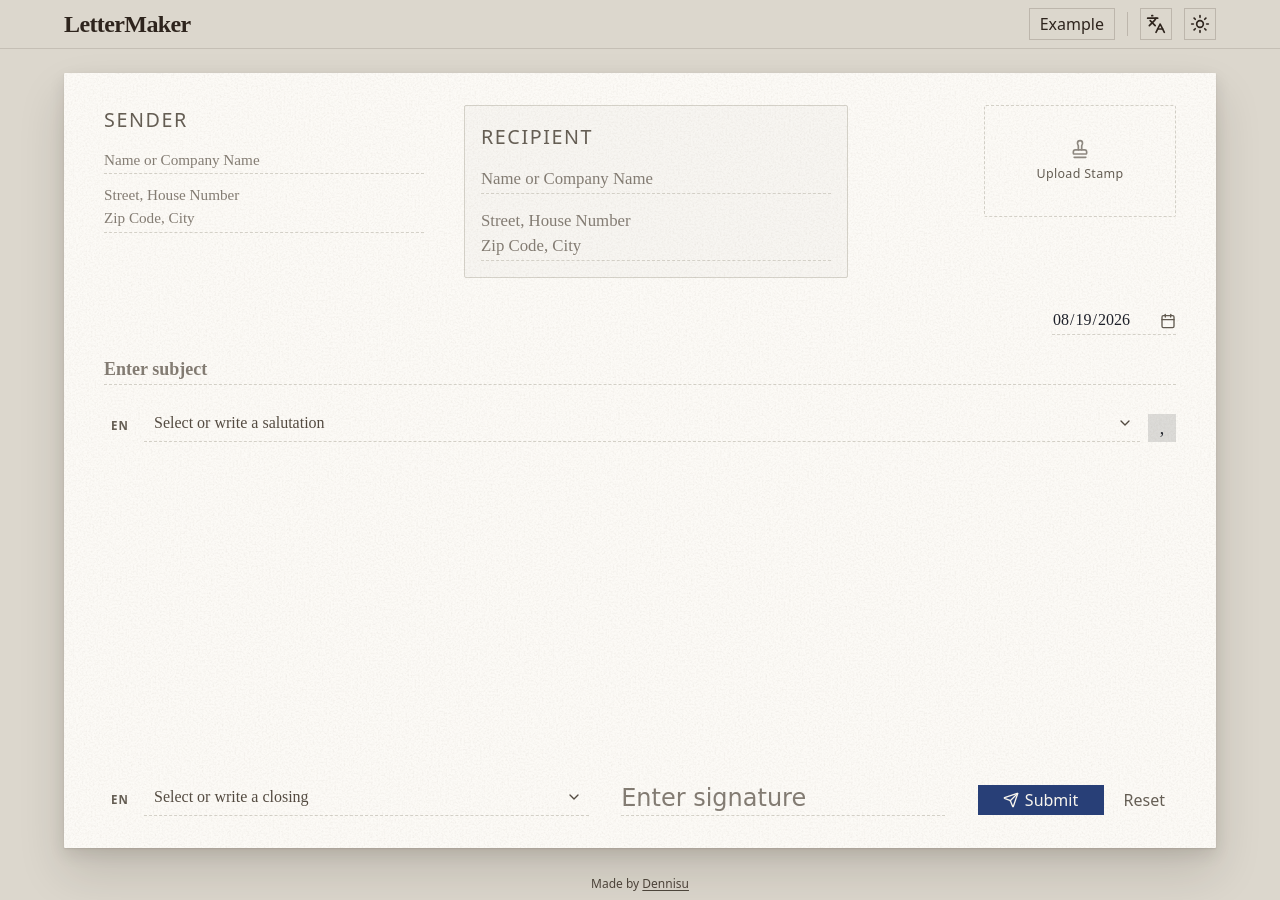
Scenario: LetterMaker › updates the editor label and placeholder when the language changes
Click the button named "Switch language".
click(1156, 24)  # box [1140,8,1172,40]
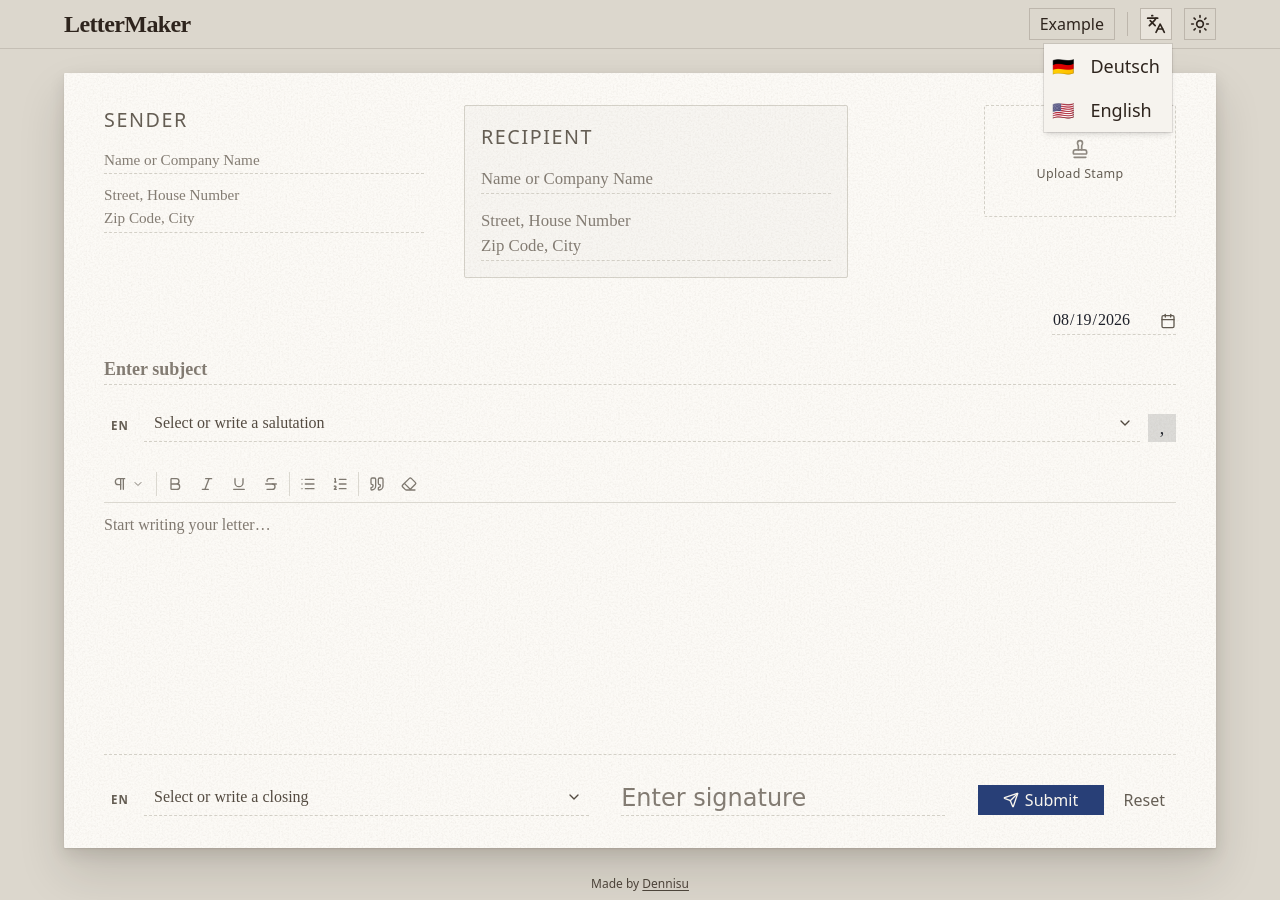
Click the menu item "🇩🇪 Deutsch".
click(1106, 66)  # box [1052,54,1160,78]
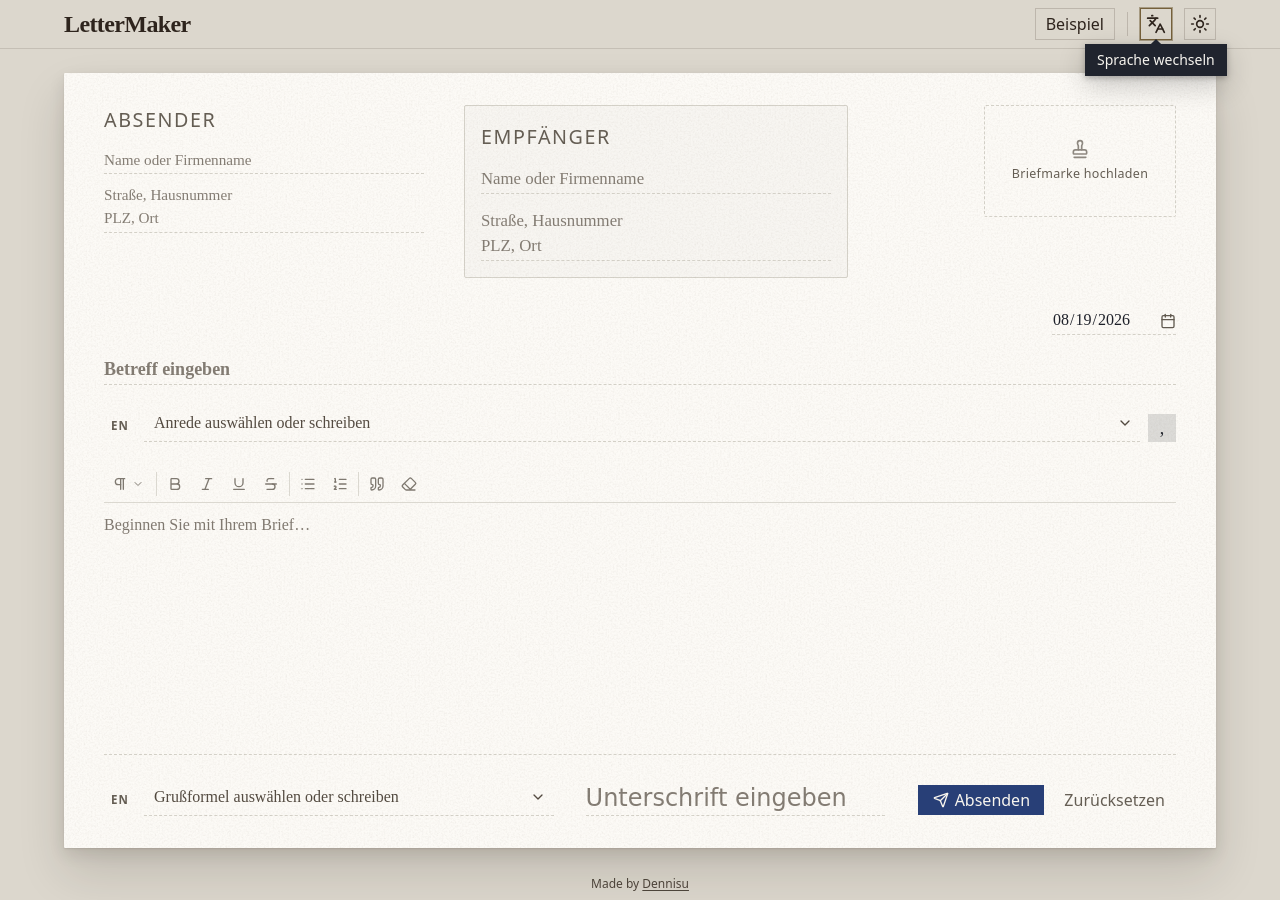
Now the button "Absenden" is shown, box [917,784,1045,816]
